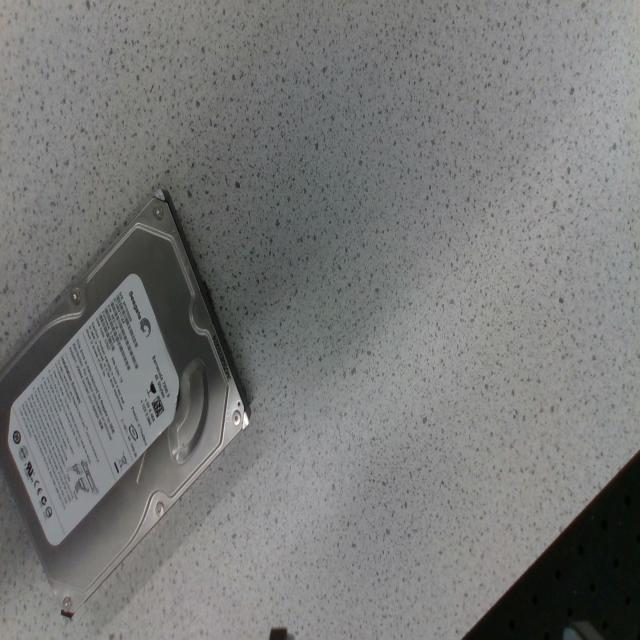label: (11, 274, 179, 543)
lid: (0, 190, 250, 618)
screw: (61, 596, 74, 618), (71, 287, 80, 303), (156, 501, 164, 517), (154, 204, 162, 219), (233, 411, 240, 425)
